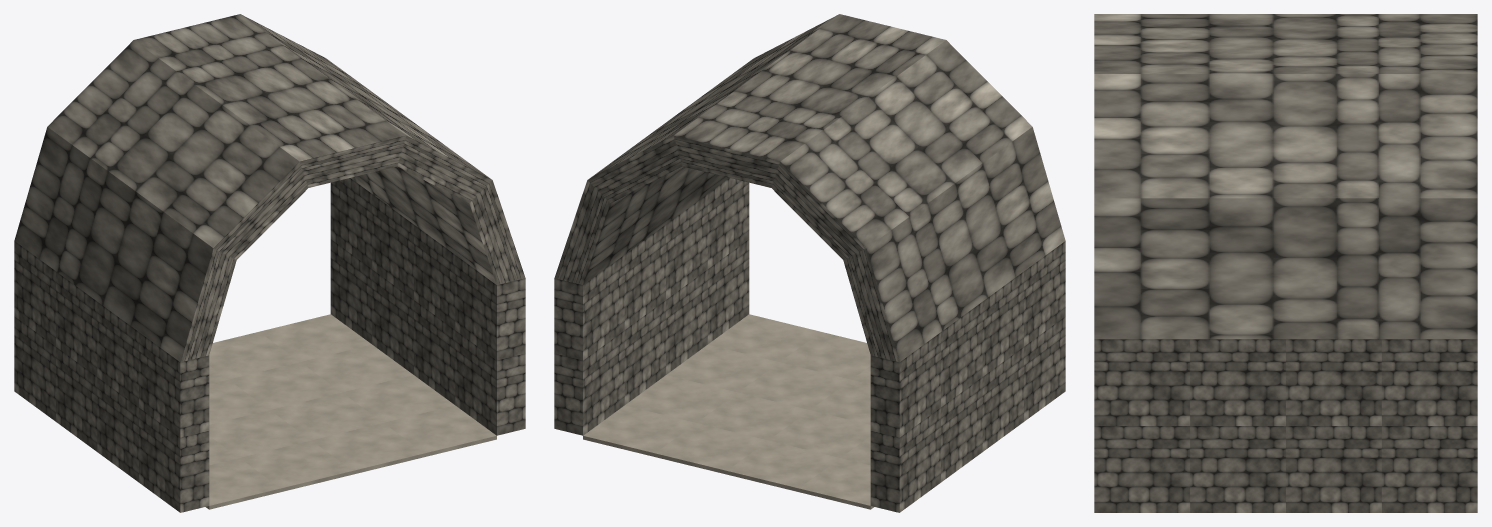
The model's file is Dungeon_Vault_1_LOD2.gltf.
3 views of the same model, side by side, from view 1: azimuth 30°, elevation 25°; view 2: azimuth 150°, elevation 25°; view 3: azimuth 270°, elevation 25° (orthographic). The views are drawn at different scales.
Parts seen in each view (by area): view 1: Dungeon_Vault_1_LOD2; view 2: Dungeon_Vault_1_LOD2; view 3: Dungeon_Vault_1_LOD2.
Part boxes in pixels (<box>): Dungeon_Vault_1_LOD2: <box>14,14,525,512</box>; Dungeon_Vault_1_LOD2: <box>554,14,1065,512</box>; Dungeon_Vault_1_LOD2: <box>1094,14,1477,512</box>.
Size of the model in its own units: 4.8 by 4.33 by 4.
2 materials, 2 textured.
